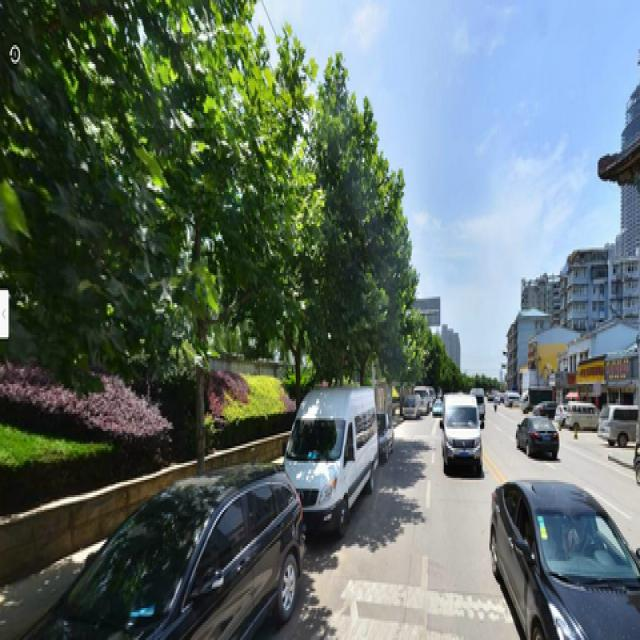meta: (161, 39, 251, 468), (263, 92, 332, 399)
